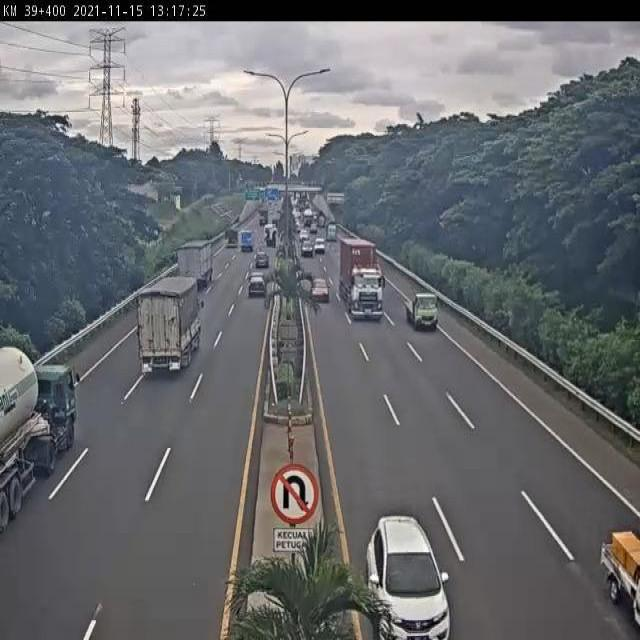big truck: (337, 239, 385, 320)
car: (365, 513, 453, 640), (248, 274, 267, 298), (312, 278, 330, 302), (255, 252, 270, 271)
truck-l-: (0, 348, 77, 536)
truck-m-: (137, 278, 201, 371), (177, 239, 214, 285)
truck-s-: (599, 526, 640, 640), (404, 292, 438, 329)
